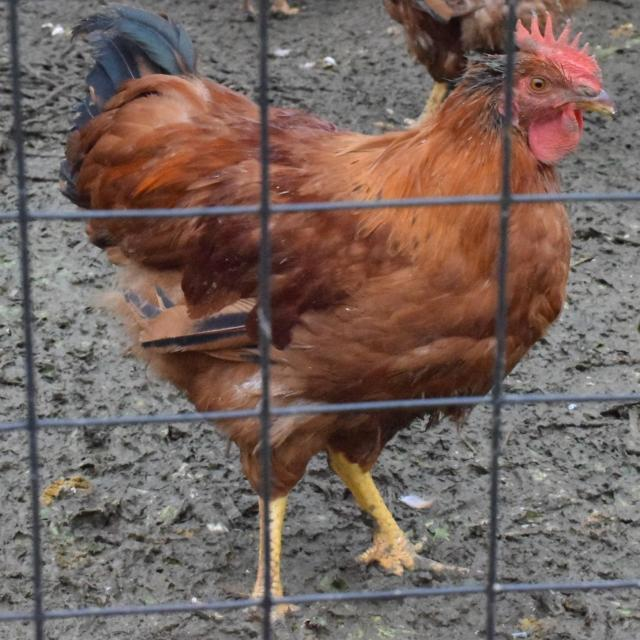cook: (268, 205, 503, 405), (250, 397, 462, 597), (58, 5, 260, 209), (87, 213, 267, 416), (266, 56, 510, 204), (511, 19, 615, 194), (504, 201, 572, 373)
